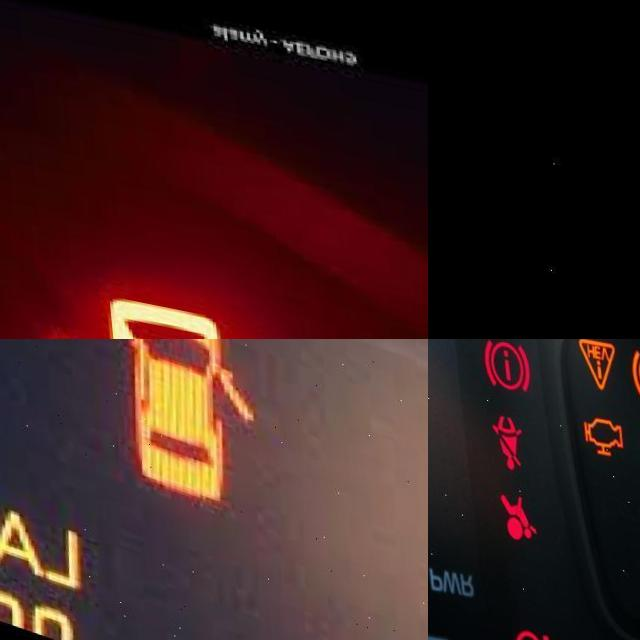Electronic Power Steering Warning: (501, 614, 546, 640)
Seat Belt: (484, 401, 521, 461)
